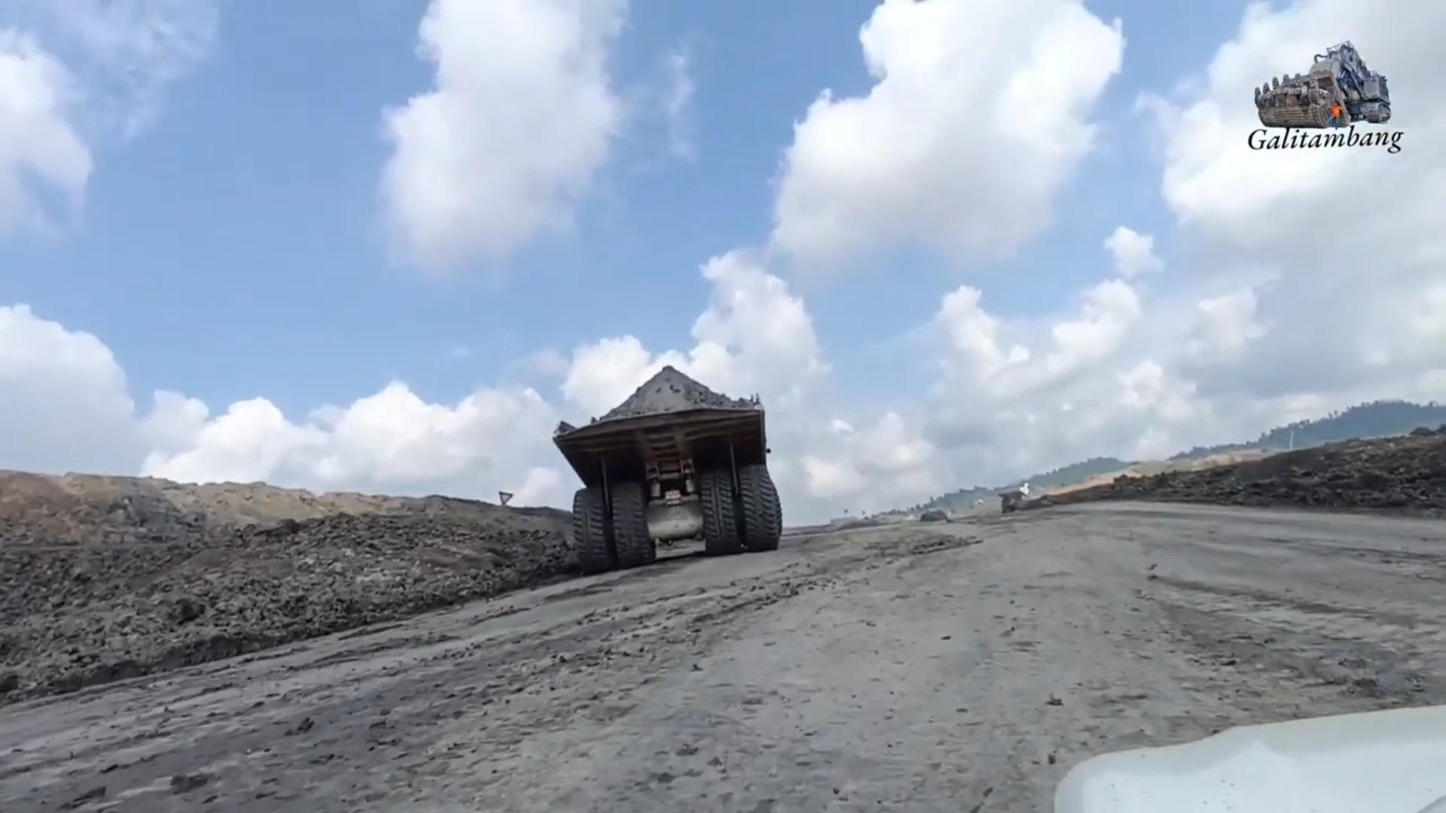HD-Truck: (554, 366, 782, 573)
